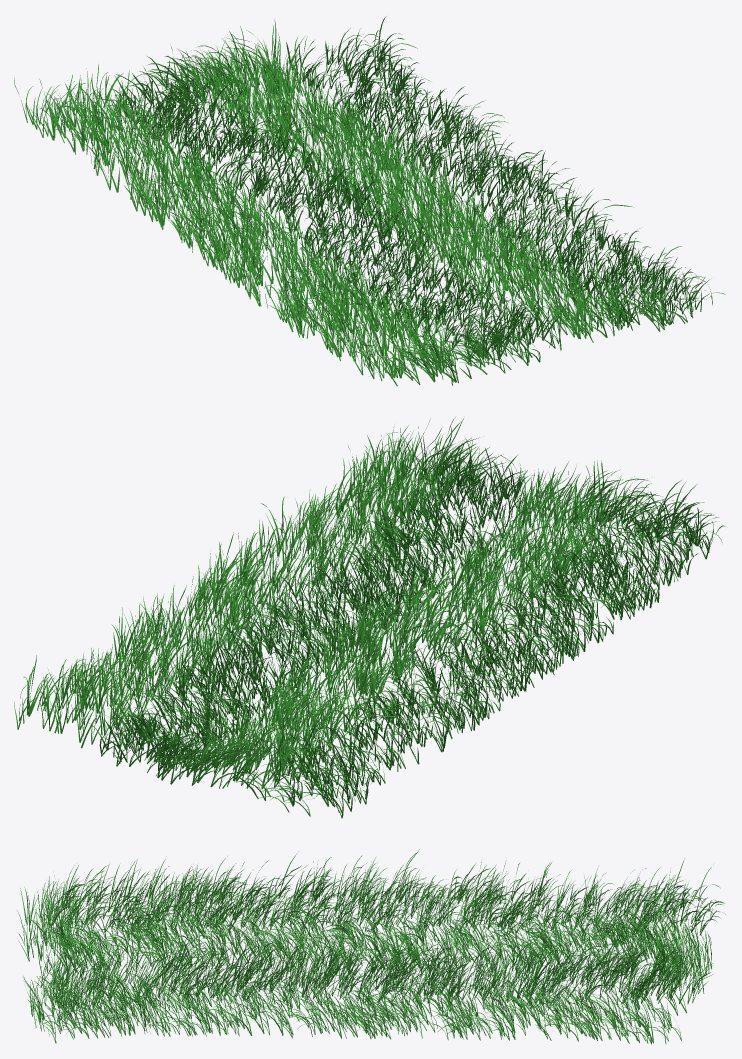
File: Animated+Grass.fbx
3 renders of one model, top to bottom at view 1: azimuth 30°, elevation 25°; view 2: azimuth 150°, elevation 25°; view 3: azimuth 270°, elevation 25°, orthographic. The views are drawn at different scales.
Parts seen in each view (by area): view 1: Grass_Animation:grassWindWide1Main; view 2: Grass_Animation:grassWindWide1Main; view 3: Grass_Animation:grassWindWide1Main.
Part boxes in pixels (bbox=[...]): Grass_Animation:grassWindWide1Main: bbox=[14, 16, 725, 386]; Grass_Animation:grassWindWide1Main: bbox=[14, 417, 725, 818]; Grass_Animation:grassWindWide1Main: bbox=[17, 849, 725, 1044].
Size of the model in its own units: 9.29 by 1.43 by 16.81.
